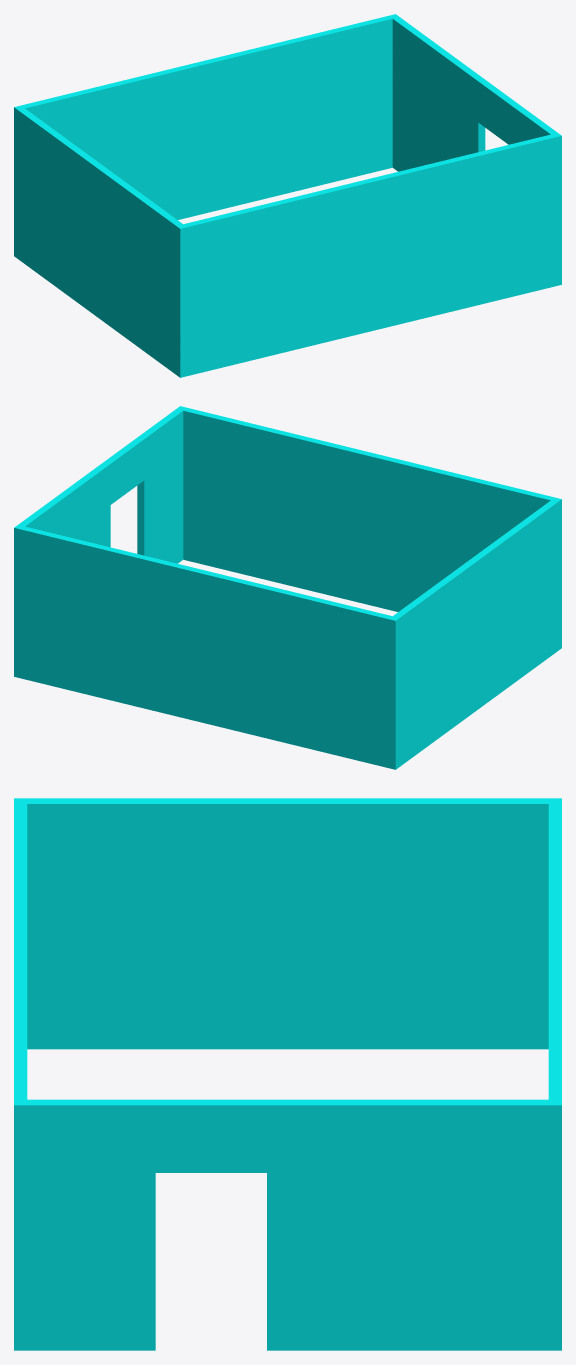
The model's file is PruebaModelado.fbx.
3 views of the same model, one above another, from view 1: azimuth 30°, elevation 25°; view 2: azimuth 150°, elevation 25°; view 3: azimuth 270°, elevation 25° (orthographic). The views are drawn at different scales.
Parts seen in each view (by area): view 1: Sólido 3D; view 2: Sólido 3D; view 3: Sólido 3D.
Boxes of the visible parts, x1,y1,x2,y2 form: Sólido 3D: [14, 14, 561, 377]; Sólido 3D: [14, 406, 561, 769]; Sólido 3D: [14, 798, 561, 1350].
Bounding box in the file's own units: 8.15 × 6.15 × 3.04.
